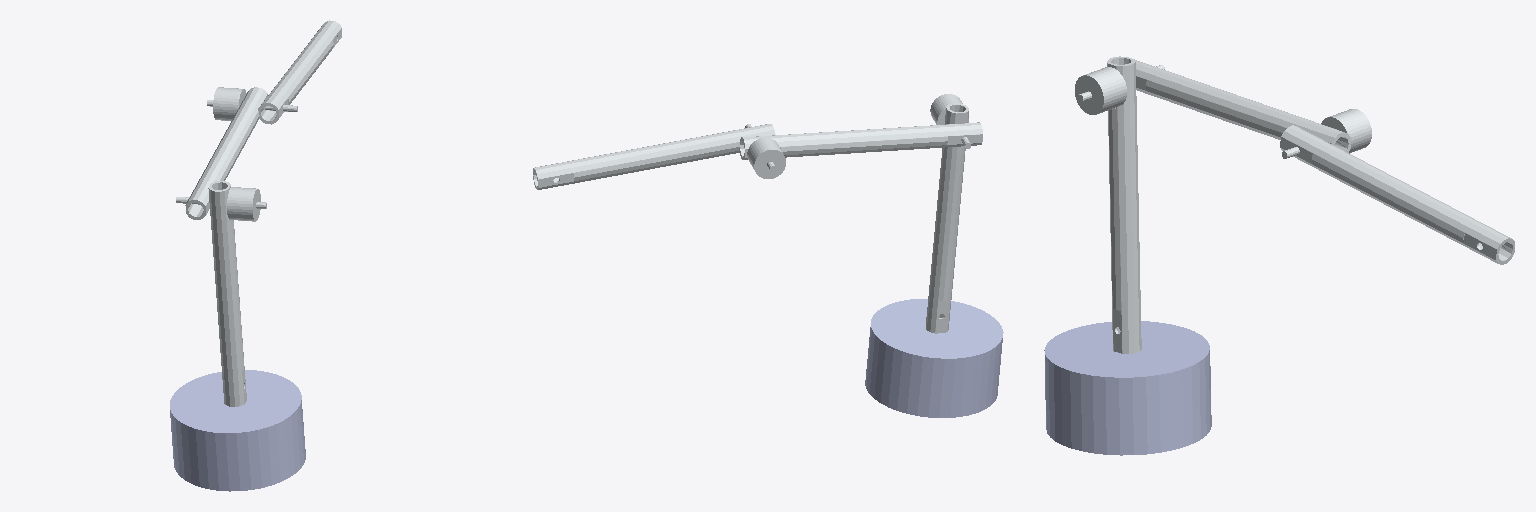
The robot description file, URDF, robot "final_arm_material":
<?xml version="1.0" encoding="utf-8"?>
<!-- This URDF was automatically created by SolidWorks to URDF Exporter! Originally created by [author] ([email redacted]) 
     Commit Version: 1.5.1-0-g916b5db  Build Version: 1.5.7152.31018
     For more information, please see http://wiki.ros.org/sw_urdf_exporter -->
<robot
  name="final_arm_material">
  <link
    name="base_link">
    <inertial>
      <origin
        xyz="0.0099575 0.010629 0.10027"
        rpy="0 0 0" />
      <mass
        value="25.085" />
      <inertia
        ixx="0.33605"
        ixy="0.00027783"
        ixz="-0.014324"
        iyy="0.33488"
        iyz="-0.0032301"
        izz="0.50135" />
    </inertial>
    <visual>
      <origin
        xyz="0 0 0"
        rpy="0 0 0" />
      <geometry>
        <mesh
          filename="package://final_arm_material/meshes/base_link.STL" />
      </geometry>
      <material
        name="">
        <color
          rgba="0.79216 0.81961 0.93333 1" />
      </material>
    </visual>
    <collision>
      <origin
        xyz="0 0 0"
        rpy="0 0 0" />
      <geometry>
        <mesh
          filename="package://final_arm_material/meshes/base_link.STL" />
      </geometry>
    </collision>
  </link>
  <link
    name="link1">
    <inertial>
      <origin
        xyz="1.3073E-08 -0.54539 -0.039291"
        rpy="0 0 0" />
      <mass
        value="8.6101" />
      <inertia
        ixx="0.17081"
        ixy="-2.9301E-09"
        ixz="9.5086E-09"
        iyy="0.01051"
        iyz="-4.9643E-08"
        izz="0.1699" />
    </inertial>
    <visual>
      <origin
        xyz="0 0 0"
        rpy="0 0 0" />
      <geometry>
        <mesh
          filename="package://final_arm_material/meshes/link1.STL" />
      </geometry>
      <material
        name="">
        <color
          rgba="0.89804 0.91765 0.92941 1" />
      </material>
    </visual>
    <collision>
      <origin
        xyz="0 0 0"
        rpy="0 0 0" />
      <geometry>
        <mesh
          filename="package://final_arm_material/meshes/link1.STL" />
      </geometry>
    </collision>
  </link>
  <joint
    name="joint1"
    type="revolute">
    <origin
      xyz="0.00099395 0.0086075 0.20448"
      rpy="-1.6182 -0.074077 0.7922" />
    <parent
      link="base_link" />
    <child
      link="link1" />
    <axis
      xyz="0 1 0" />
    <limit
      lower="-3.14"
      upper="3.14"
      effort="100"
      velocity="40" />
  </joint>
  <link
    name="link2">
    <inertial>
      <origin
        xyz="-0.10297 -0.0089445 -0.49311"
        rpy="0 0 0" />
      <mass
        value="8.6101" />
      <inertia
        ixx="0.1699"
        ixy="8.6068E-09"
        ixz="-4.9807E-08"
        iyy="0.17075"
        iyz="-0.0029067"
        izz="0.010563" />
    </inertial>
    <visual>
      <origin
        xyz="0 0 0"
        rpy="0 0 0" />
      <geometry>
        <mesh
          filename="package://final_arm_material/meshes/link2.STL" />
      </geometry>
      <material
        name="">
        <color
          rgba="0.89804 0.91765 0.92941 1" />
      </material>
    </visual>
    <collision>
      <origin
        xyz="0 0 0"
        rpy="0 0 0" />
      <geometry>
        <mesh
          filename="package://final_arm_material/meshes/link2.STL" />
      </geometry>
    </collision>
  </link>
  <joint
    name="joint2"
    type="revolute">
    <origin
      xyz="0 -0.67886 0"
      rpy="3.1416 1.5708 0" />
    <parent
      link="link1" />
    <child
      link="link2" />
    <axis
      xyz="-1 0 0" />
    <limit
      lower="-3.14"
      upper="3.14"
      effort="100"
      velocity="40" />
  </joint>
  <link
    name="link3">
    <inertial>
      <origin
        xyz="0.31333 2.8823E-07 -3.0691E-08"
        rpy="0 0 0" />
      <mass
        value="3.6676" />
      <inertia
        ixx="0.0033793"
        ixy="4.9643E-08"
        ixz="-2.9301E-09"
        iyy="0.16377"
        iyz="-9.5086E-09"
        izz="0.16368" />
    </inertial>
    <visual>
      <origin
        xyz="0 0 0"
        rpy="0 0 0" />
      <geometry>
        <mesh
          filename="package://final_arm_material/meshes/link3.STL" />
      </geometry>
      <material
        name="">
        <color
          rgba="0.89804 0.91765 0.92941 1" />
      </material>
    </visual>
    <collision>
      <origin
        xyz="0 0 0"
        rpy="0 0 0" />
      <geometry>
        <mesh
          filename="package://final_arm_material/meshes/link3.STL" />
      </geometry>
    </collision>
  </link>
  <joint
    name="joint3"
    type="revolute">
    <origin
      xyz="0 -0.011365 -0.62656"
      rpy="3.1416 1.4185 -1.5708" />
    <parent
      link="link2" />
    <child
      link="link3" />
    <axis
      xyz="0 -1 0" />
    <limit
      lower="-3.14"
      upper="3.14"
      effort="400"
      velocity="40" />
  </joint>
</robot>

--- What the picture shows (computed from the rendered views, not written in the file) ---
The picture shows the robot from 3 angles, left to right: view 1: azimuth 30°, elevation 25°; view 2: azimuth 150°, elevation 25°; view 3: azimuth 270°, elevation 25°; orthographic projection.
Model final_arm_material with 4 links and 3 joints (3 revolute), rooted at base_link, posed all joints at 0.
Visible links, largest first — view 1: base_link, link1, link2, link3; view 2: base_link, link2, link1, link3; view 3: base_link, link1, link3, link2.
Link boxes in pixels (x1,y1,x2,y2): base_link: (170,370,305,491); link1: (176,181,266,406); link2: (185,87,297,219); link3: (258,20,341,124); base_link: (865,299,1003,417); link2: (739,122,982,178); link1: (926,94,970,333); link3: (533,124,775,189); base_link: (1044,321,1211,455); link1: (1075,56,1164,353); link3: (1280,125,1514,264); link2: (1135,60,1371,158).
Size in the robot's own frame: 1.08 by 1.14 by 0.9778 metres.
Meshes: 4 distinct files referenced, 4 mesh visuals loaded (4 binary STL).